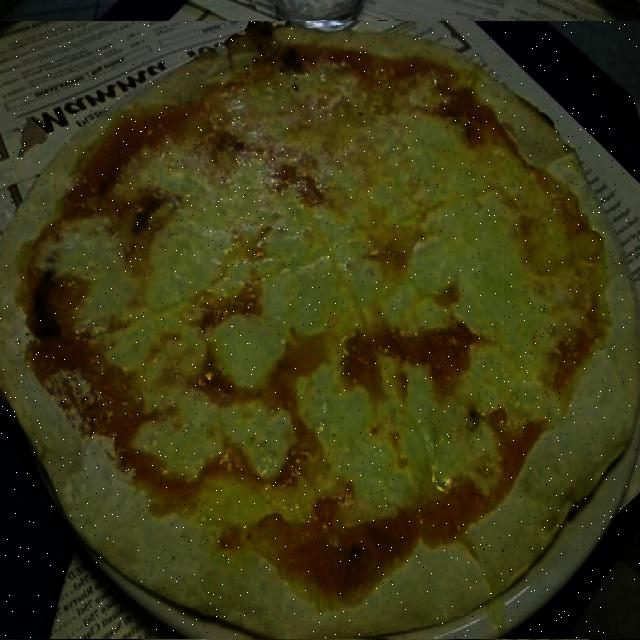Pepperoni: (0, 22, 640, 638)
